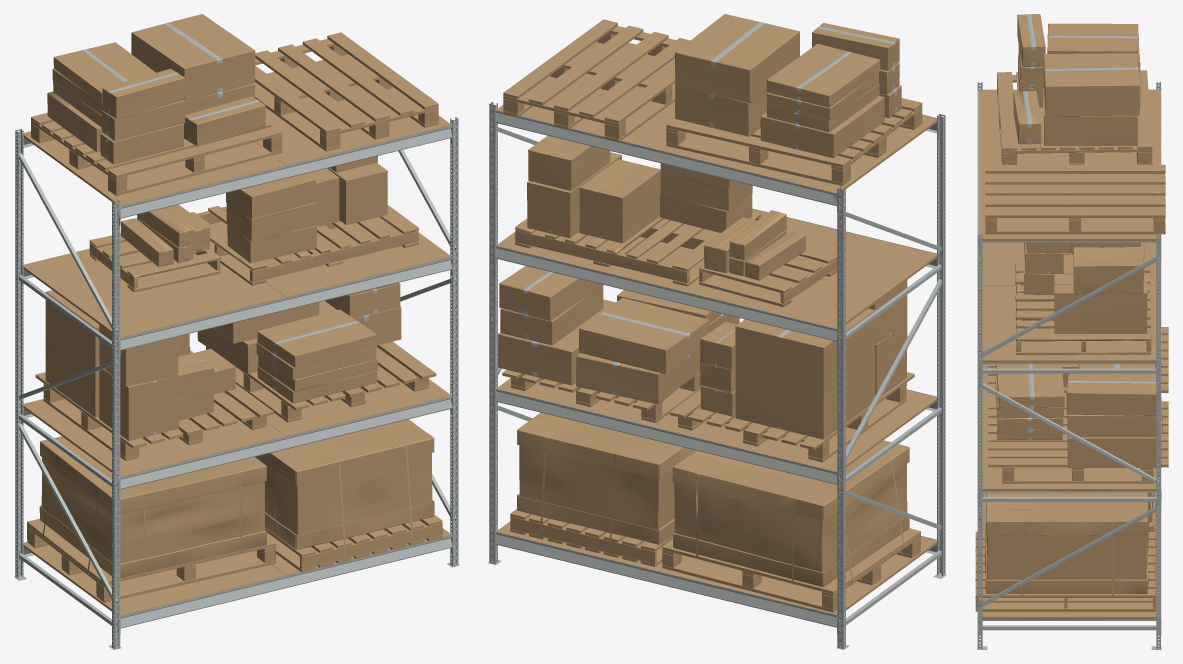
Rendered from rack_composition_a05.glb.
3 views of the same model, side by side, from view 1: azimuth 30°, elevation 25°; view 2: azimuth 150°, elevation 25°; view 3: azimuth 270°, elevation 25° (orthographic). The views are drawn at different scales.
Size of the model in its own units: 2.45 by 3.6 by 1.29.
